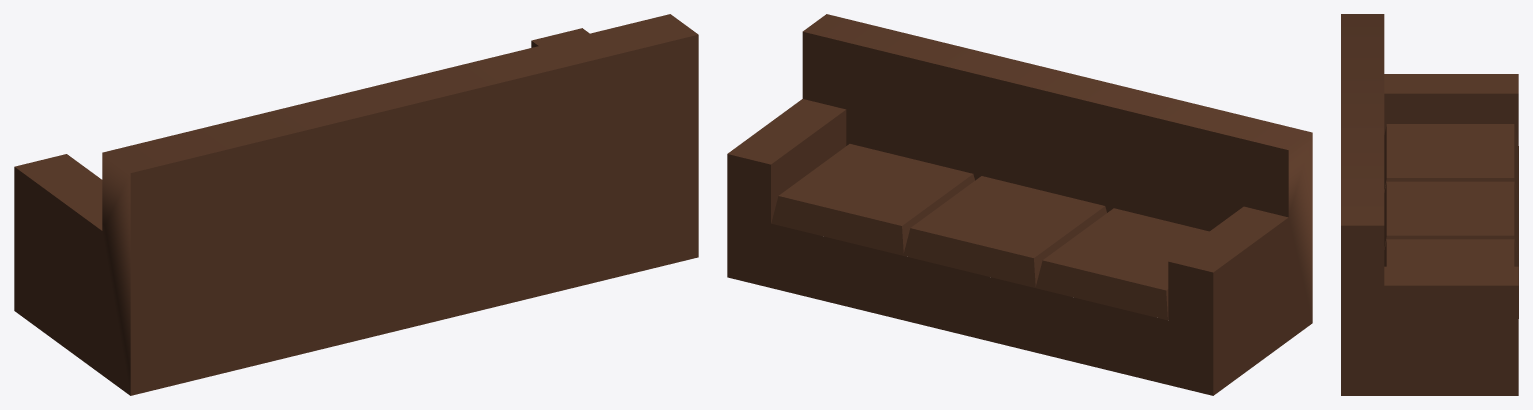
File: Couch.fbx
3 renders of one model, left to right at view 1: azimuth 30°, elevation 25°; view 2: azimuth 150°, elevation 25°; view 3: azimuth 270°, elevation 25°, orthographic. The views are drawn at different scales.
Parts seen in each view (by area): view 1: Couch1; view 2: Couch1; view 3: Couch1.
Boxes of the visible parts, left/top/right/bottom form: Couch1: left=14, top=14, right=698, bottom=395; Couch1: left=727, top=14, right=1312, bottom=395; Couch1: left=1341, top=14, right=1518, bottom=395.
Size of the model in its own units: 3.66 by 1.37 by 1.3.
